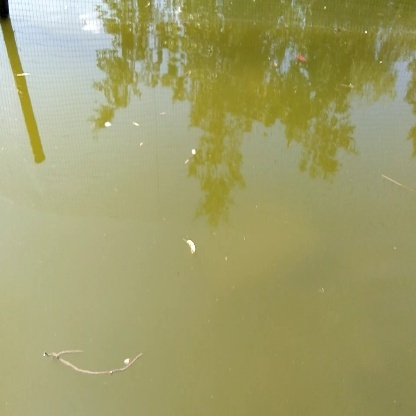branch: (41, 338, 151, 386)
